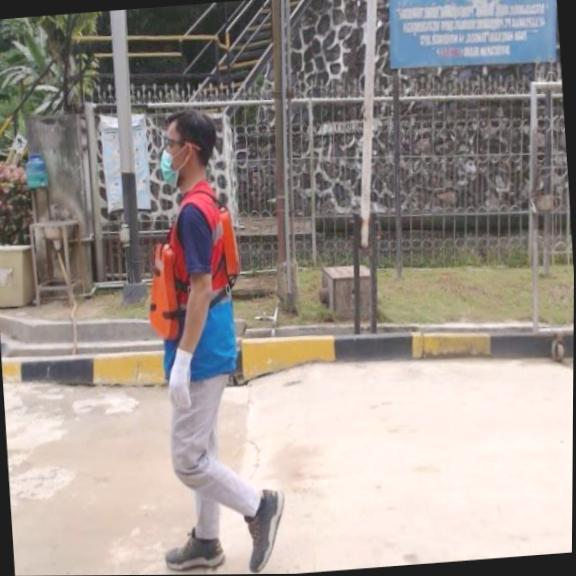safety_vest: (139, 205, 245, 341)
